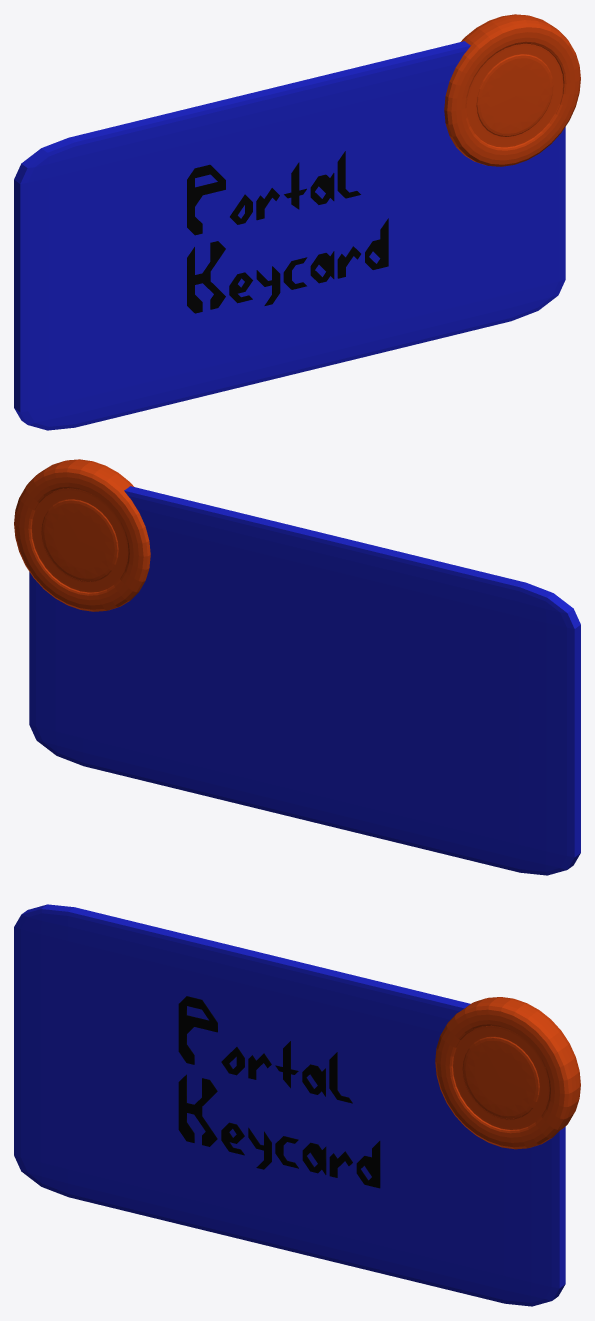
Rendered from Keycard.obj.
3 renders of one model, top to bottom at view 1: azimuth 30°, elevation 25°; view 2: azimuth 150°, elevation 25°; view 3: azimuth 330°, elevation 25°, orthographic.
Visible parts, largest first — view 1: Keycard_Text_Keycard_Text_Material.013, Keycard_Text_Keycard_Text_Material.012, Keycard_Text_Keycard_Text_Material.011; view 2: Keycard_Text_Keycard_Text_Material.013, Keycard_Text_Keycard_Text_Material.012; view 3: Keycard_Text_Keycard_Text_Material.013, Keycard_Text_Keycard_Text_Material.012, Keycard_Text_Keycard_Text_Material.011.
Boxes of the visible parts, left/top/right/bottom form: Keycard_Text_Keycard_Text_Material.013: left=14, top=41, right=565, bottom=430; Keycard_Text_Keycard_Text_Material.012: left=444, top=14, right=580, bottom=166; Keycard_Text_Keycard_Text_Material.011: left=187, top=151, right=388, bottom=313; Keycard_Text_Keycard_Text_Material.013: left=29, top=486, right=580, bottom=875; Keycard_Text_Keycard_Text_Material.012: left=14, top=459, right=150, bottom=611; Keycard_Text_Keycard_Text_Material.013: left=14, top=904, right=565, bottom=1306; Keycard_Text_Keycard_Text_Material.012: left=435, top=997, right=580, bottom=1149; Keycard_Text_Keycard_Text_Material.011: left=178, top=996, right=380, bottom=1188.
Bounding box in the file's own units: 2.05 × 1.05 × 0.1.
